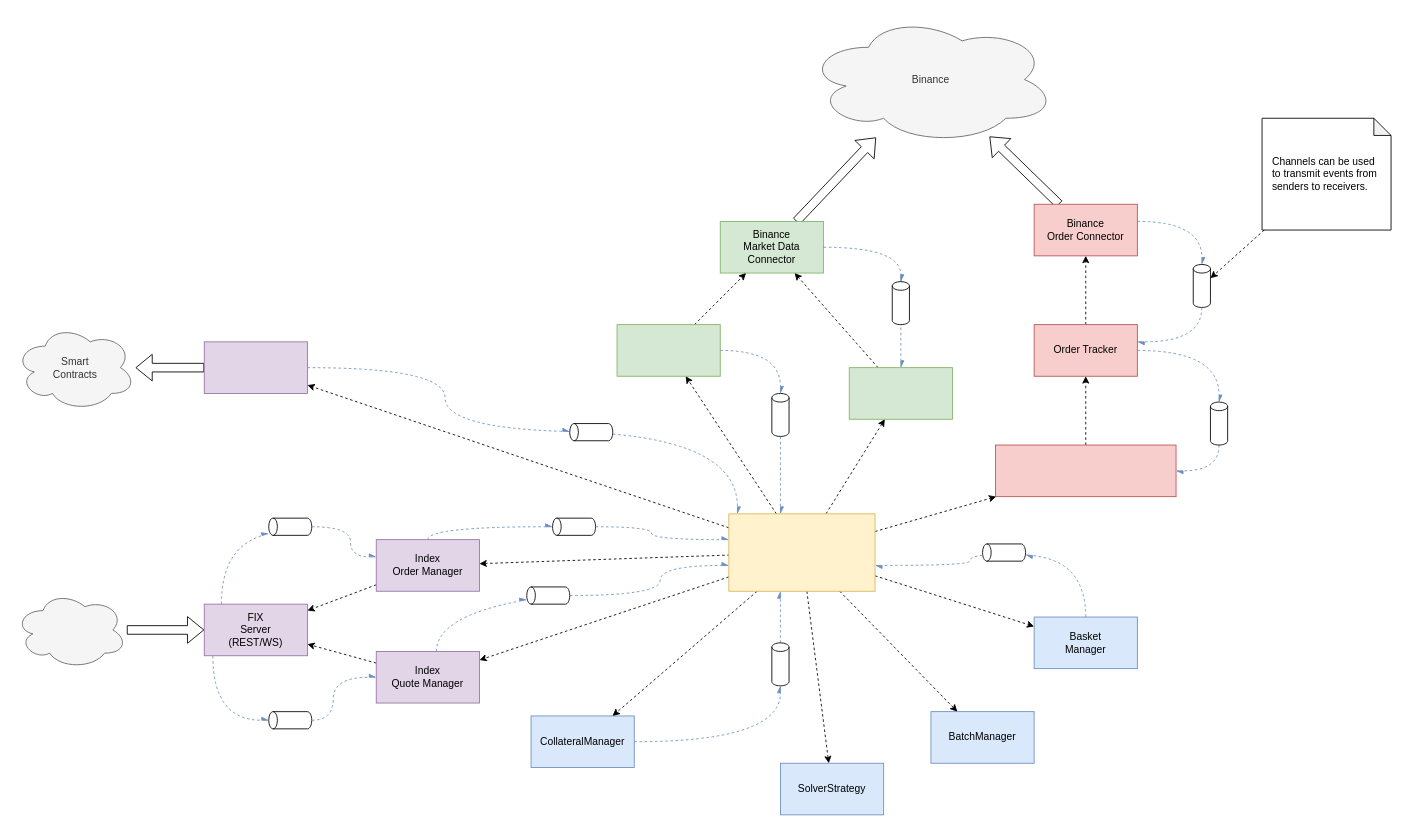
The diagram is 1406 pixels wide and 830 high, and some of its shapes have lost their labels. Here are the shapes that lost their labels. From the top down, the centre of each, then its label:
At (255,367): "EVM Connector".
At (668,350): "Price Tracker".
At (900,393): "Order Book Manager".
At (1085,470): "Inventory Manager".
At (801,552): "Solver".
At (70,629): "Web App".
